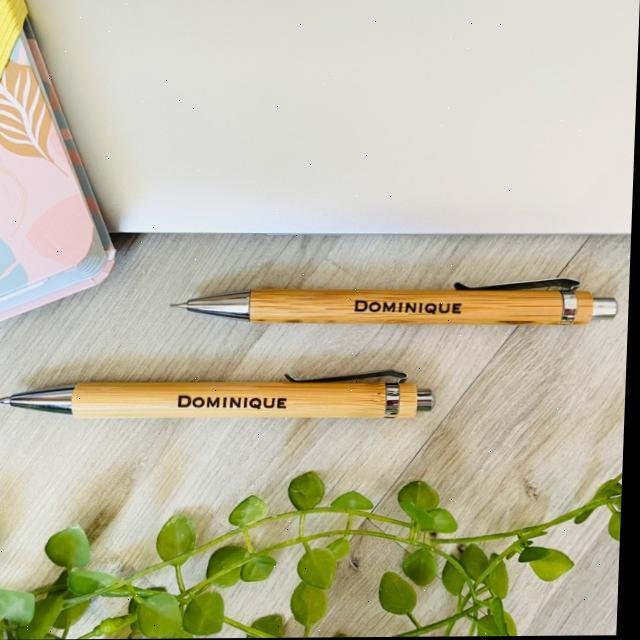pen: (0, 369, 439, 423), (170, 278, 622, 330)
